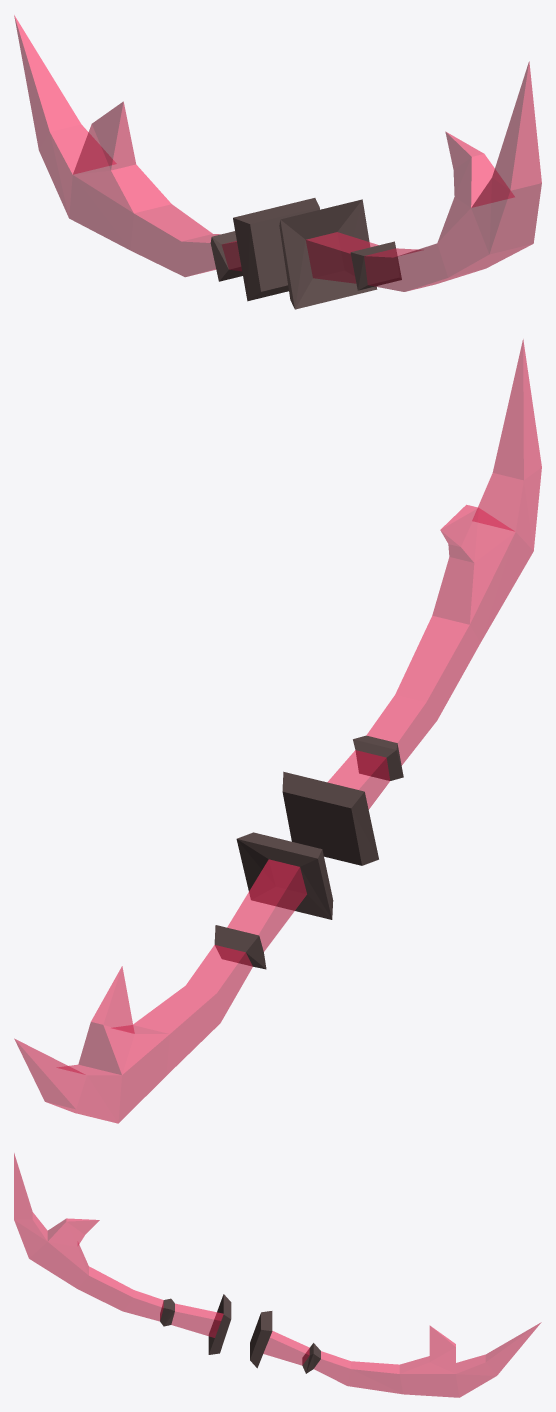
File: player_bow.gltf
3 views of the same model, one above another, from view 1: azimuth 30°, elevation 25°; view 2: azimuth 150°, elevation 25°; view 3: azimuth 270°, elevation 25° (orthographic). The views are drawn at different scales.
Bounding box in the file's own units: 13 × 71 × 141.
2 materials, 2 textured.
